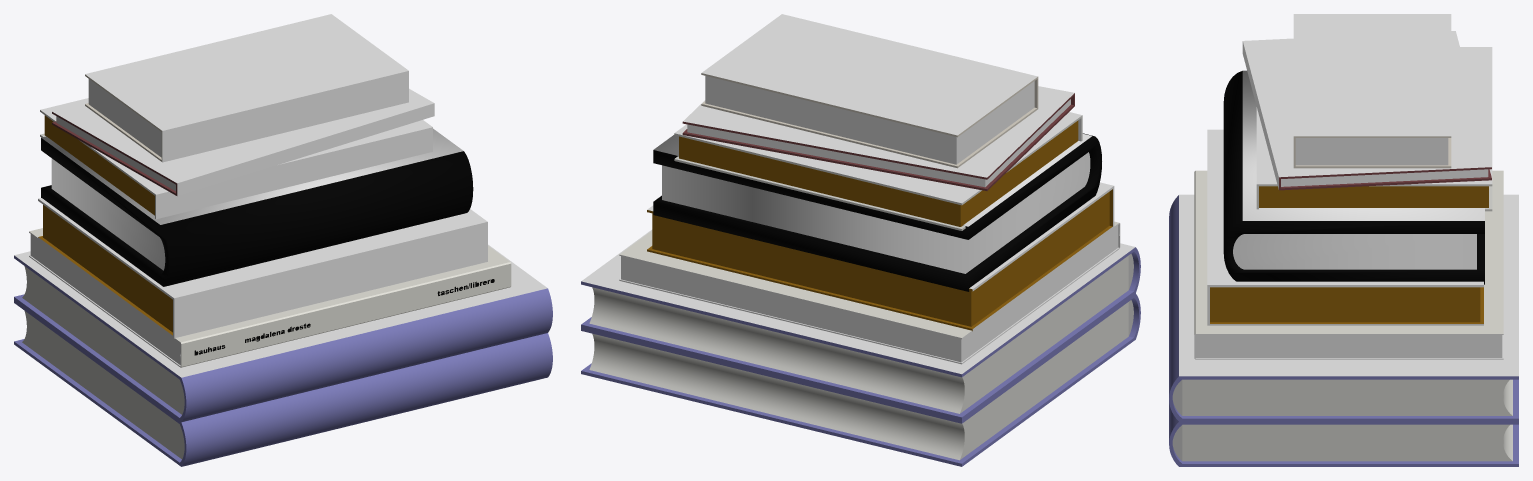
File: Books.fbx
The picture shows the model from 3 angles, left to right: view 1: azimuth 30°, elevation 25°; view 2: azimuth 150°, elevation 25°; view 3: azimuth 270°, elevation 25°; orthographic projection. The views are drawn at different scales.
Parts seen in each view (by area): view 1: book marihuana_001; view 2: book marihuana_001; view 3: book marihuana_001.
Part boxes in pixels (x1,y1,x2,y2): book marihuana_001: (14, 14, 552, 466); book marihuana_001: (581, 14, 1140, 466); book marihuana_001: (1169, 14, 1518, 466).
Size of the model in its own units: 75.07 by 55.87 by 61.1.
